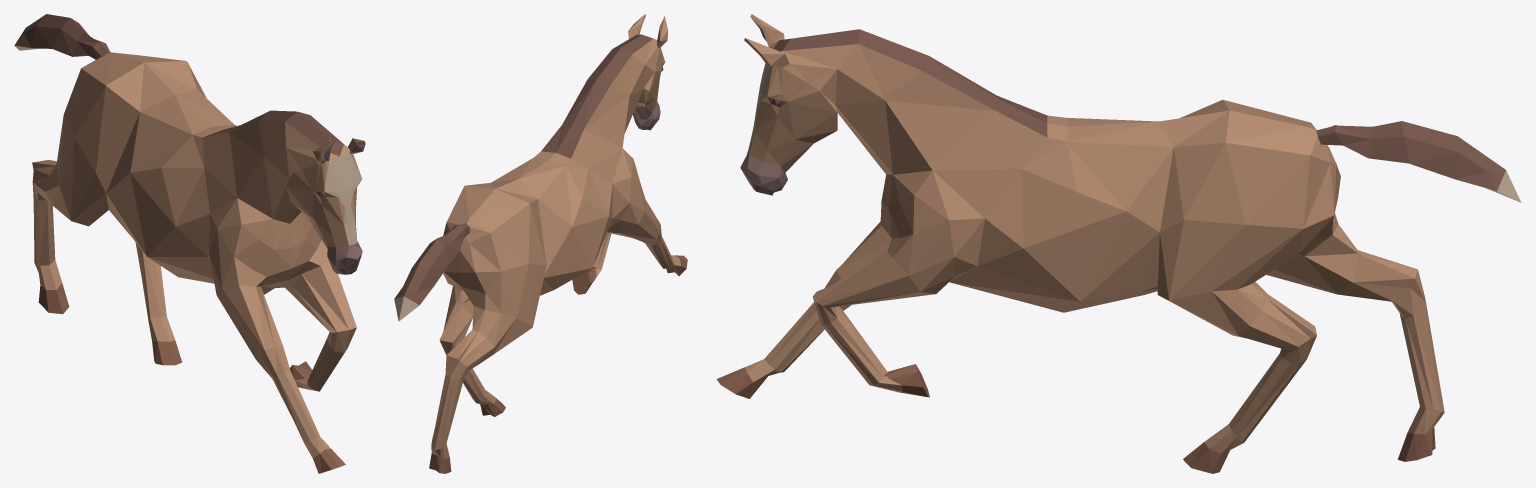
The model's file is Horse.glb.
The picture shows the model from 3 angles, left to right: view 1: azimuth 30°, elevation 25°; view 2: azimuth 150°, elevation 25°; view 3: azimuth 270°, elevation 25°; orthographic projection. The views are drawn at different scales.
Visible parts, largest first — view 1: mesh_0; view 2: mesh_0; view 3: mesh_0.
Part boxes in pixels (x1,y1,x2,y2): mesh_0: [14, 14, 365, 473]; mesh_0: [394, 14, 687, 473]; mesh_0: [716, 14, 1521, 473].
Size of the model in its own units: 60.57 by 176 by 289.
